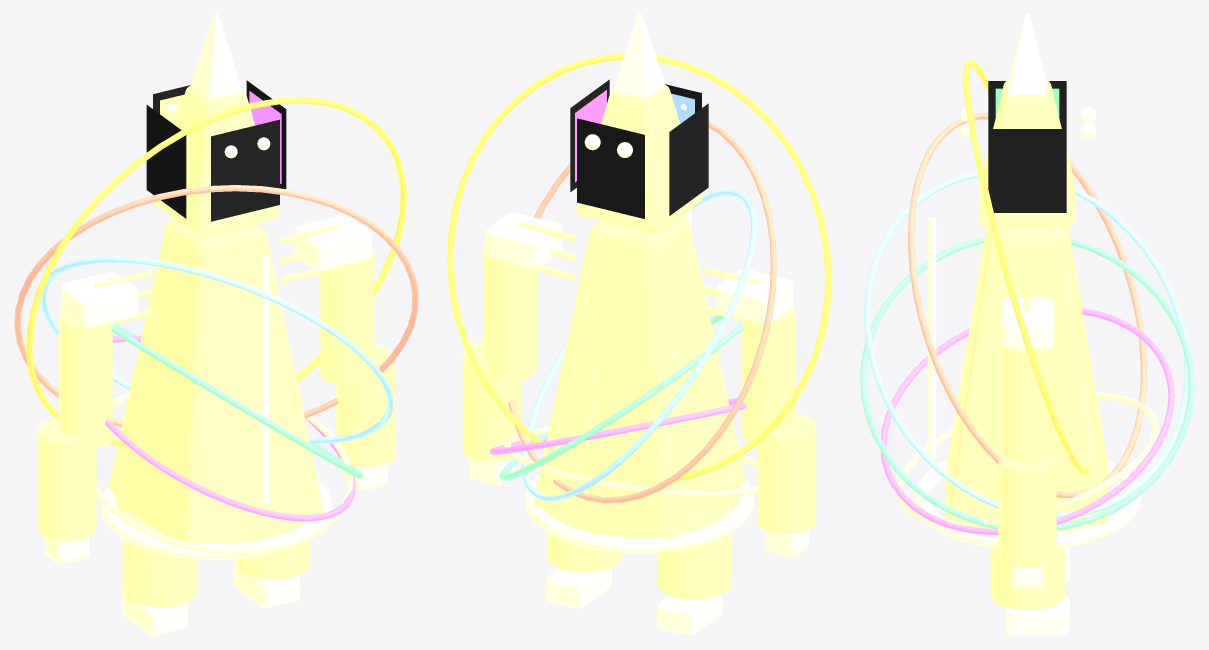
Rendered from foundation_model_boss.glb.
3 renders of one model, left to right at view 1: azimuth 30°, elevation 25°; view 2: azimuth 150°, elevation 25°; view 3: azimuth 270°, elevation 25°, orthographic.
Visible parts, largest first — view 1: GolemBody, Forearm_L, UpperArm_L, UpperArm_R, GolemHead, CapRing_REASON, AudioPanel_Frame, CapRing_VIDEO, Forearm_R, Thigh_L, CapRing_AUDIO, Shoulder_L (+14 smaller); view 2: GolemBody, CapRing_REASON, GolemHead, UpperArm_R, Forearm_L, UpperArm_L, TextPanel_Frame, Forearm_R, CapRing_VIDEO, WaistBelt, Thigh_L, CapRing_AUDIO (+14 smaller); view 3: GolemBody, ImagePanel_Frame, Forearm_R, CapRing_AUDIO, CapRing_CODE, UpperArm_R, CapRing_VIDEO, GolemHead, CapRing_IMAGE, CapRing_REASON, WaistBelt, Thigh_R (+8 smaller).
Part boxes in pixels (bbox=[...]): GolemBody: bbox=[108, 218, 324, 559]; Forearm_L: bbox=[37, 418, 96, 540]; UpperArm_L: bbox=[58, 311, 112, 449]; UpperArm_R: bbox=[320, 248, 374, 385]; GolemHead: bbox=[153, 85, 280, 236]; CapRing_REASON: bbox=[26, 97, 406, 445]; AudioPanel_Frame: bbox=[211, 119, 279, 221]; CapRing_VIDEO: bbox=[14, 185, 418, 427]; Forearm_R: bbox=[336, 345, 395, 467]; Thigh_L: bbox=[122, 509, 197, 606]; CapRing_AUDIO: bbox=[40, 256, 393, 443]; Shoulder_L: bbox=[61, 272, 138, 328]; GolemBody: bbox=[532, 215, 745, 553]; CapRing_REASON: bbox=[447, 53, 831, 481]; GolemHead: bbox=[576, 85, 702, 233]; UpperArm_R: bbox=[483, 245, 536, 380]; Forearm_L: bbox=[758, 413, 816, 534]; UpperArm_L: bbox=[742, 307, 795, 443]; TextPanel_Frame: bbox=[577, 118, 644, 218]; Forearm_R: bbox=[462, 341, 520, 462]; CapRing_VIDEO: bbox=[508, 121, 776, 503]; WaistBelt: bbox=[525, 474, 753, 553]; Thigh_L: bbox=[657, 503, 731, 599]; CapRing_AUDIO: bbox=[521, 190, 757, 501]; GolemBody: bbox=[946, 225, 1108, 538]; ImagePanel_Frame: bbox=[988, 129, 1066, 212]; Forearm_R: bbox=[998, 453, 1056, 567]; CapRing_AUDIO: bbox=[864, 171, 1188, 518]; CapRing_CODE: bbox=[860, 236, 1194, 530]; UpperArm_R: bbox=[1001, 345, 1053, 461]; CapRing_VIDEO: bbox=[908, 113, 1146, 497]; GolemHead: bbox=[979, 79, 1075, 225]; CapRing_IMAGE: bbox=[881, 308, 1174, 534]; CapRing_REASON: bbox=[963, 59, 1089, 474]; WaistBelt: bbox=[913, 460, 1141, 548]; Thigh_R: bbox=[990, 530, 1064, 609].
Bounding box in the file's own units: 8.11 × 12.2 × 6.31.
